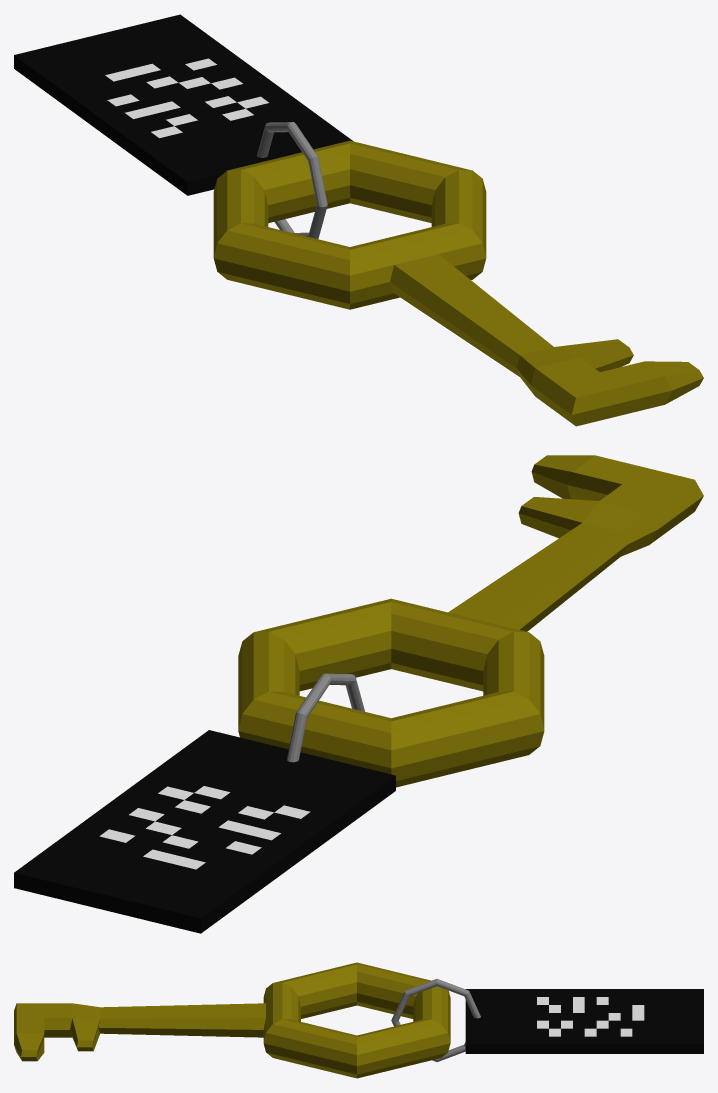
File: Key.fbx
The picture shows the model from 3 angles, top to bottom: view 1: azimuth 30°, elevation 25°; view 2: azimuth 150°, elevation 25°; view 3: azimuth 270°, elevation 25°; orthographic projection. The views are drawn at different scales.
Parts seen in each view (by area): view 1: Key; view 2: Key; view 3: Key.
Boxes of the visible parts, box(x1,y1,x2,y2) form: Key: box(14, 14, 703, 426); Key: box(14, 455, 703, 933); Key: box(14, 962, 703, 1078).
Size of the model in its own units: 12.05 by 5.11 by 38.49.
